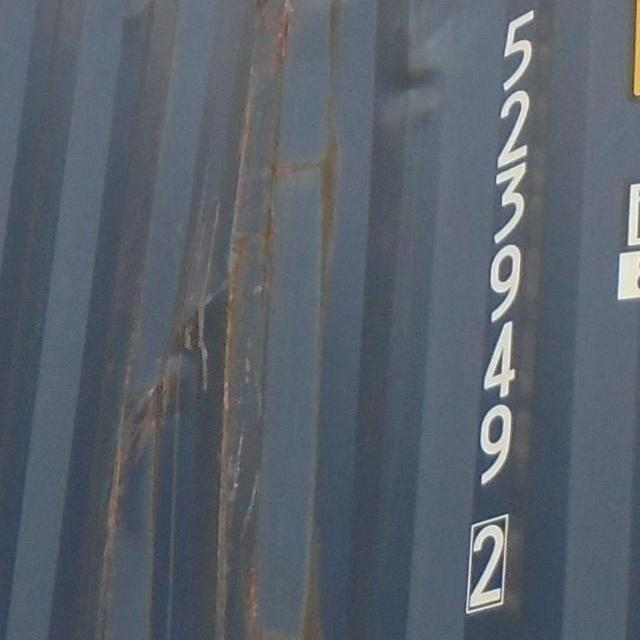dent: (88, 232, 276, 533)
